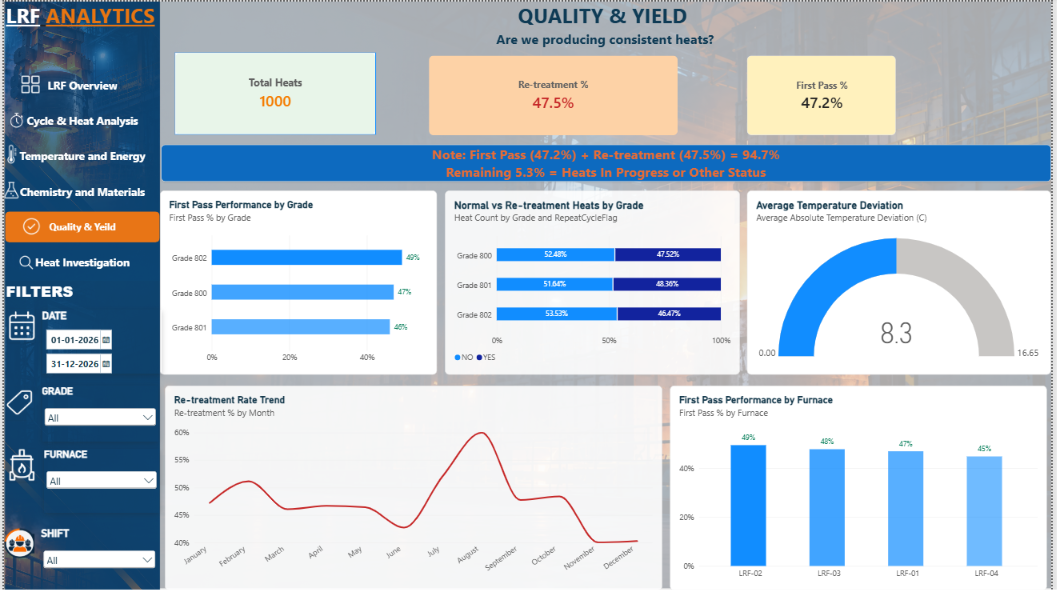

Layout of this report page (visuals, bound fields, positions):
{"tool":"powerbi","page":{"name":"Quality & Yeild","canvas":[1920,1080],"ordinal":4},"visuals":[{"type":"clusteredBarChart","title":"First Pass Performance by Grade","fields":{"Category":["DIm_Grade.Grade"],"Y":["Measures (2).First Pass %"]},"box":[286.1,346.7,508.1,337.5],"z":0},{"type":"cardVisual","title":"Re-treatment Rate","fields":{"Data":["Measures (2).Re-treatment %"]},"box":[779.6,99,456.7,146.7],"z":1000},{"type":"hundredPercentStackedBarChart","title":"Normal vs Re-treatment Heats by Grade","fields":{"Category":["DIm_Grade.Grade"],"Y":["Measures (2).Heat Count"],"Series":["Fact_Heat.RepeatCycleFlag"]},"box":[808.9,346.7,541.1,337.5],"z":2000},{"type":"gauge","title":"Average Temperature Deviation","fields":{"Y":["Measures (2).Average Absolute Temperature Deviation (C)"]},"box":[1362.8,346.7,557.6,337.5],"z":3000},{"type":"lineChart","title":"Re-treatment Rate Trend","fields":{"Y":["Measures (2).Re-treatment %"],"Category":["Dim_Date.Date.Variation.Date Hierarchy.Year","Dim_Date.Date.Variation.Date Hierarchy.Month"]},"box":[295.3,704.4,911.6,376],"z":4000},{"type":"clusteredColumnChart","title":"First Pass Performance by Furnace","fields":{"Category":["Dim_Furnance.Furnace"],"Y":["Measures (2).First Pass %"]},"box":[1221.6,704.4,691.5,376],"z":5000},{"type":"textbox","box":[1.8,0,284.1,1080.4],"z":6000},{"type":"image","box":[0,0,286,1080.4],"z":7000},{"type":"textbox","box":[285.9,0,1634.1,95.9],"z":8000},{"type":"cardVisual","fields":{"Data":["Measures (2).Total Heats"]},"box":[313.7,93.5,368.7,150.4],"z":9000},{"type":"cardVisual","fields":{"Data":["Measures (2).First Pass %"]},"box":[1362.8,99,273.3,146.7],"z":10000},{"type":"textbox","box":[3.6,0,280.5,59.7],"z":11000},{"type":"textbox","box":[288,262.3,1632.5,67.9],"z":12000},{"type":"pageNavigator","box":[1.8,124.7,284.3,387],"z":13000},{"type":"slicer","title":"DATE","fields":{"Values":["Dim_Date.Date"]},"box":[69.7,564.9,219,117.6],"z":14000},{"type":"slicer","title":" GRADE","fields":{"Values":["DIm_Grade.Grade"]},"box":[69.7,704.4,213.5,103.2],"z":15000},{"type":"slicer","title":"  FURNACE","fields":{"Values":["Dim_Furnance.Furnace"]},"box":[73.4,819.9,211.7,117.6],"z":16000},{"type":"textbox","box":[3.7,511.8,282.5,44],"z":17000},{"type":"image","box":[6,135,86.2,33],"z":18000},{"type":"image","box":[0,203,47.1,29],"z":19000},{"type":"image","box":[0,262,29,36],"z":20000},{"type":"image","box":[0,330.2,27.5,31.2],"z":21000},{"type":"image","box":[31,397,39,32],"z":22000},{"type":"image","box":[14,465,50.7,25.3],"z":23000},{"type":"image","box":[3.7,704.4,50,62],"z":24000},{"type":"image","box":[7.3,563.1,50,62],"z":25000},{"type":"image","box":[1.8,819.9,60.5,60.5],"z":26000},{"type":"image","box":[0,964.8,56.9,58.7],"z":27000},{"type":"slicer","title":"SHIFT","fields":{"Values":["Fact_Heat.Shift"]},"box":[67.9,964.4,214.6,115.6],"z":28000}]}

Visuals, with their boxes on the page's 1920x1080 design canvas (x1, y1, x2, y2). These are canvas units, not pixel positions in the 1057x590 screenshot, which may show the page scaled, cropped or inside an application window:
"First Pass Performance by Grade" clusteredBarChart: [286, 347, 794, 684]
"Re-treatment Rate" cardVisual: [780, 99, 1236, 246]
"Normal vs Re-treatment Heats by Grade" hundredPercentStackedBarChart: [809, 347, 1350, 684]
"Average Temperature Deviation" gauge: [1363, 347, 1920, 684]
"Re-treatment Rate Trend" lineChart: [295, 704, 1207, 1080]
"First Pass Performance by Furnace" clusteredColumnChart: [1222, 704, 1913, 1080]
textbox: [2, 0, 286, 1080]
image: [0, 0, 286, 1080]
textbox: [286, 0, 1920, 96]
cardVisual - Measures (2).Total Heats: [314, 94, 682, 244]
cardVisual - Measures (2).First Pass %: [1363, 99, 1636, 246]
textbox: [4, 0, 284, 60]
textbox: [288, 262, 1920, 330]
pageNavigator: [2, 125, 286, 512]
"DATE" slicer: [70, 565, 289, 682]
" GRADE" slicer: [70, 704, 283, 808]
"  FURNACE" slicer: [73, 820, 285, 938]
textbox: [4, 512, 286, 556]
image: [6, 135, 92, 168]
image: [0, 203, 47, 232]
image: [0, 262, 29, 298]
image: [0, 330, 28, 361]
image: [31, 397, 70, 429]
image: [14, 465, 65, 490]
image: [4, 704, 54, 766]
image: [7, 563, 57, 625]
image: [2, 820, 62, 880]
image: [0, 965, 57, 1024]
"SHIFT" slicer: [68, 964, 282, 1080]
